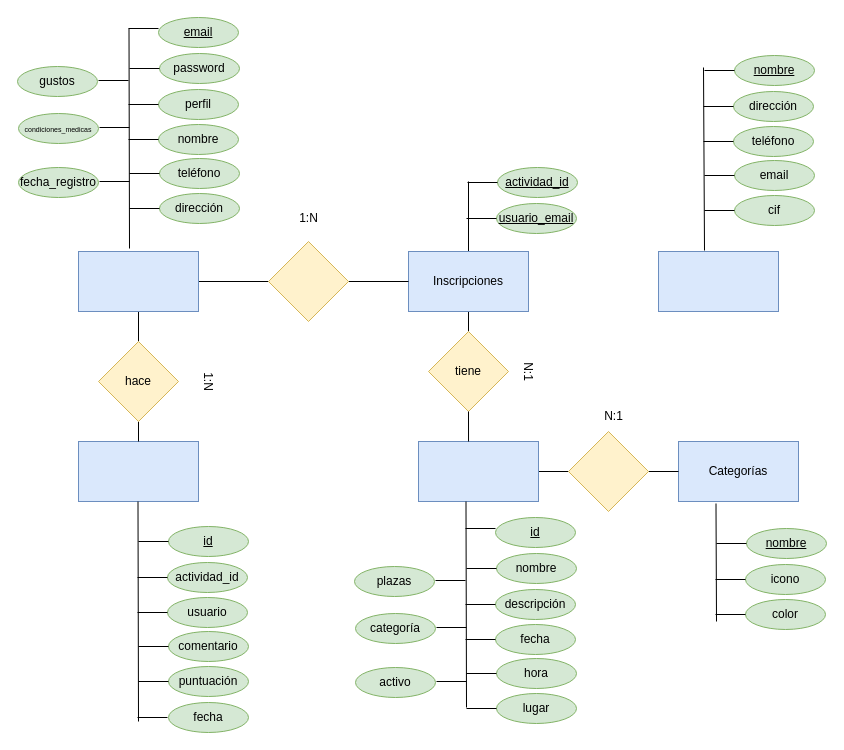
This 844x750 diagram has some shape labels left out. Each missing label, with the centre of its shape:
Actividades: point 478,471
Comentarios: point 138,471
Empresa: point 718,281
pertenece a: point 608,471
registra: point 308,281
Usuarios: point 138,281
